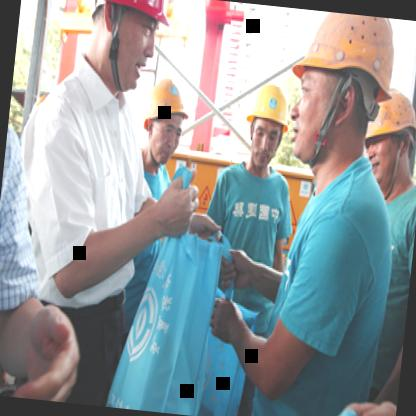helmet: (278, 7, 403, 170), (74, 0, 166, 98), (353, 71, 416, 197), (135, 63, 198, 169), (236, 76, 297, 172)
